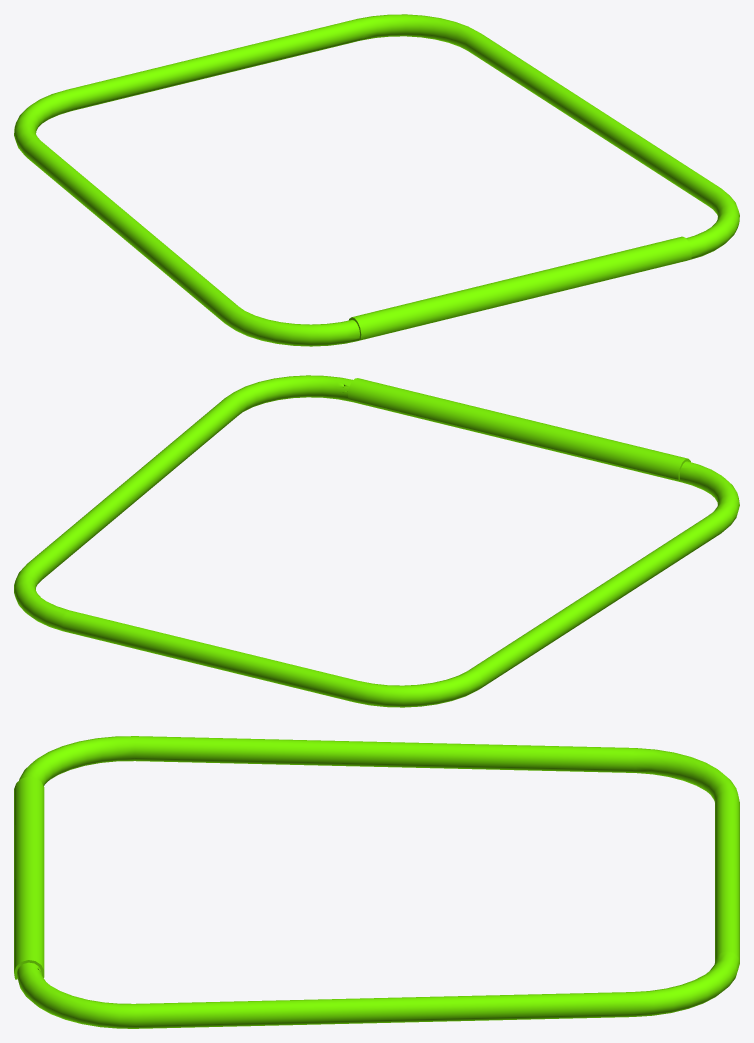
File: chair_026_07.obj
3 renders of one model, top to bottom at view 1: azimuth 30°, elevation 25°; view 2: azimuth 150°, elevation 25°; view 3: azimuth 270°, elevation 25°, orthographic. The views are drawn at different scales.
Bounding box in the file's own units: 394 × 16.85 × 434.
